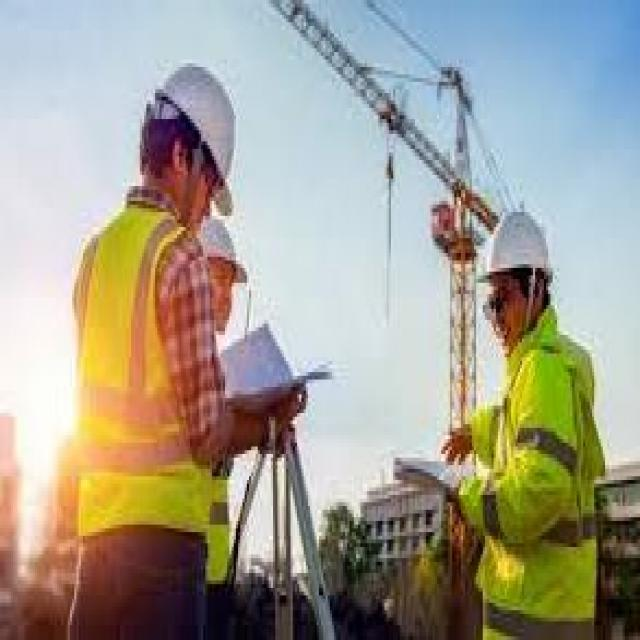Reflective-Jacket: (55, 201, 238, 588), (457, 324, 618, 603)
Safety-Helmet: (140, 56, 244, 208), (474, 197, 561, 298), (190, 208, 251, 290)
